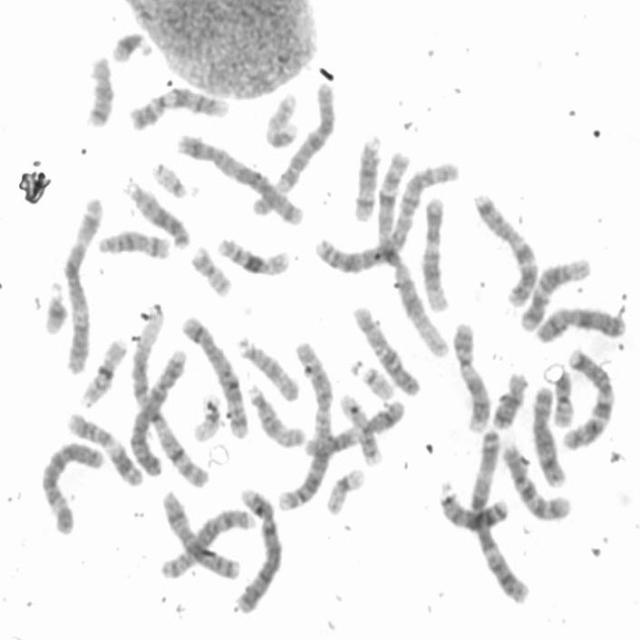A1: (372, 147, 455, 359), (127, 302, 209, 488)
A2: (311, 155, 460, 275), (275, 336, 337, 512)
A3: (464, 424, 534, 606), (59, 191, 106, 375)
B4: (124, 344, 190, 481), (228, 480, 284, 615)
B5: (173, 130, 307, 226), (177, 308, 251, 441)
C10: (348, 301, 423, 398), (497, 438, 574, 524)
C11: (299, 396, 407, 458), (62, 408, 145, 488)
C12: (516, 250, 593, 332), (419, 192, 451, 315)
C6: (247, 78, 337, 219), (37, 437, 106, 536)
C7: (469, 186, 541, 308), (558, 343, 618, 451)
C8: (158, 501, 252, 582), (528, 379, 569, 489)
C9: (124, 81, 232, 132), (448, 317, 493, 434)
D13: (118, 173, 193, 251), (435, 475, 511, 534)
D14: (349, 130, 384, 223), (92, 224, 172, 261)
D15: (233, 332, 302, 404), (245, 377, 307, 450)
E16: (76, 332, 131, 408), (211, 232, 292, 278)
E17: (336, 388, 384, 468), (260, 89, 300, 150)
E18: (81, 49, 116, 130), (488, 366, 530, 430)
F19: (322, 462, 368, 517), (188, 390, 224, 444)
F20: (187, 241, 235, 298), (549, 366, 576, 429)
G21: (107, 25, 156, 64), (40, 275, 69, 337)
G22: (346, 355, 397, 401), (149, 157, 195, 200)
X: (532, 301, 630, 345)
